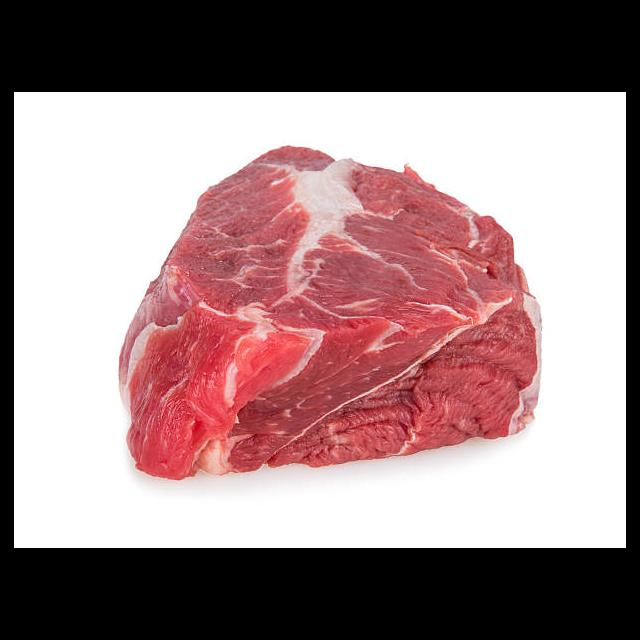beef: (116, 148, 546, 481)
